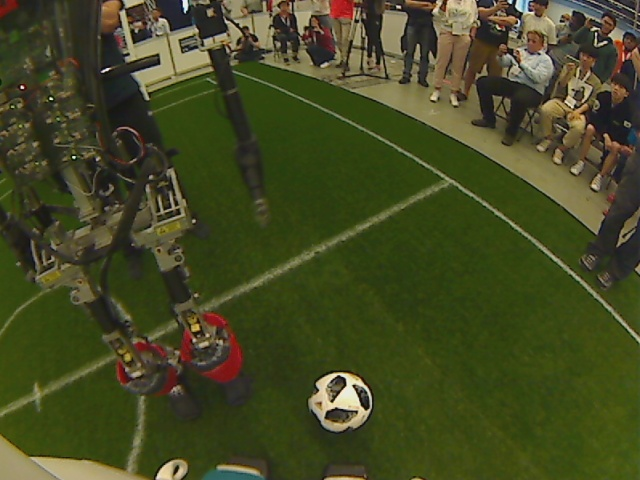ball: (307, 369, 372, 434)
